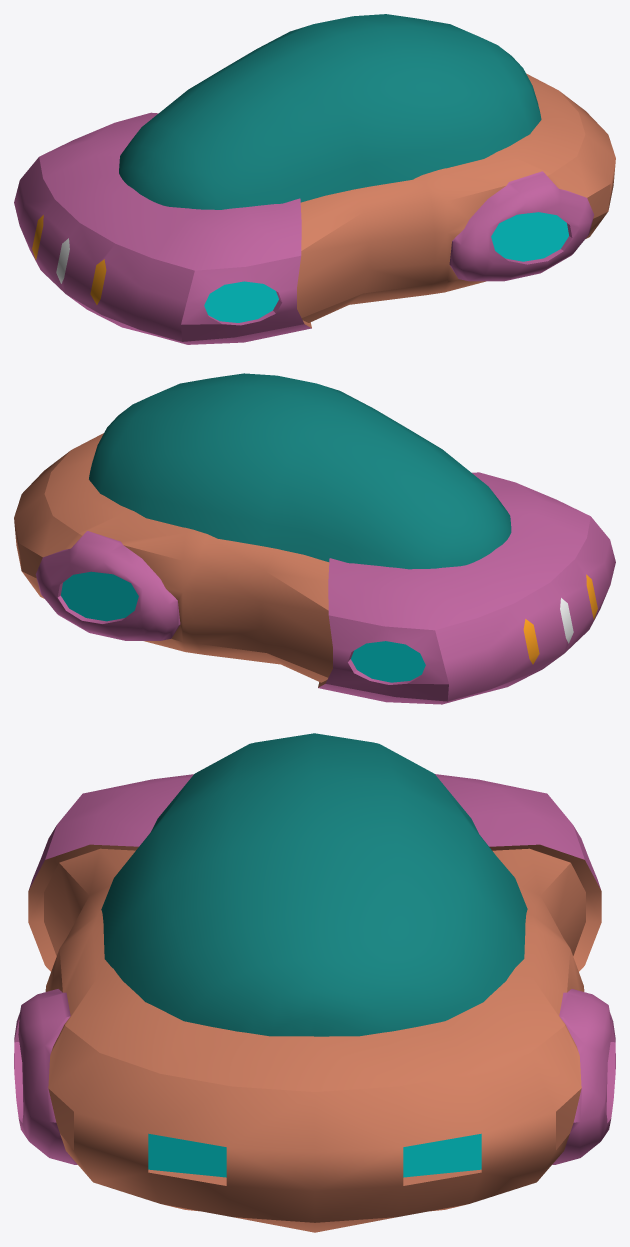
File: SM_auto_3.fbx
3 views of the same model, one above another, from view 1: azimuth 30°, elevation 25°; view 2: azimuth 150°, elevation 25°; view 3: azimuth 270°, elevation 25° (orthographic). The views are drawn at different scales.
Parts seen in each view (by area): view 1: SM_auto_3; view 2: SM_auto_3; view 3: SM_auto_3.
Part boxes in pixels (x1=…): SM_auto_3: x1=14, y1=14, x2=615, y2=344; SM_auto_3: x1=14, y1=373, x2=615, y2=704; SM_auto_3: x1=14, y1=733, x2=615, y2=1232.
Bounding box in the file's own units: 503 × 201 × 335.
